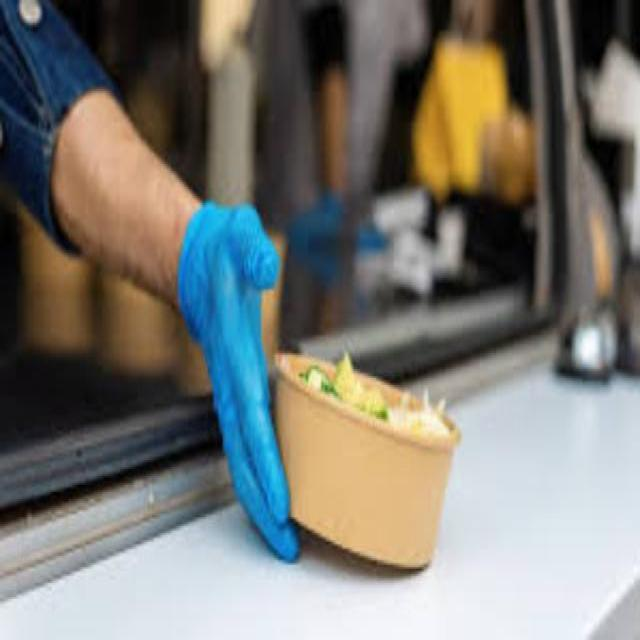gloved_hand: (179, 184, 296, 553), (315, 560, 317, 562)
